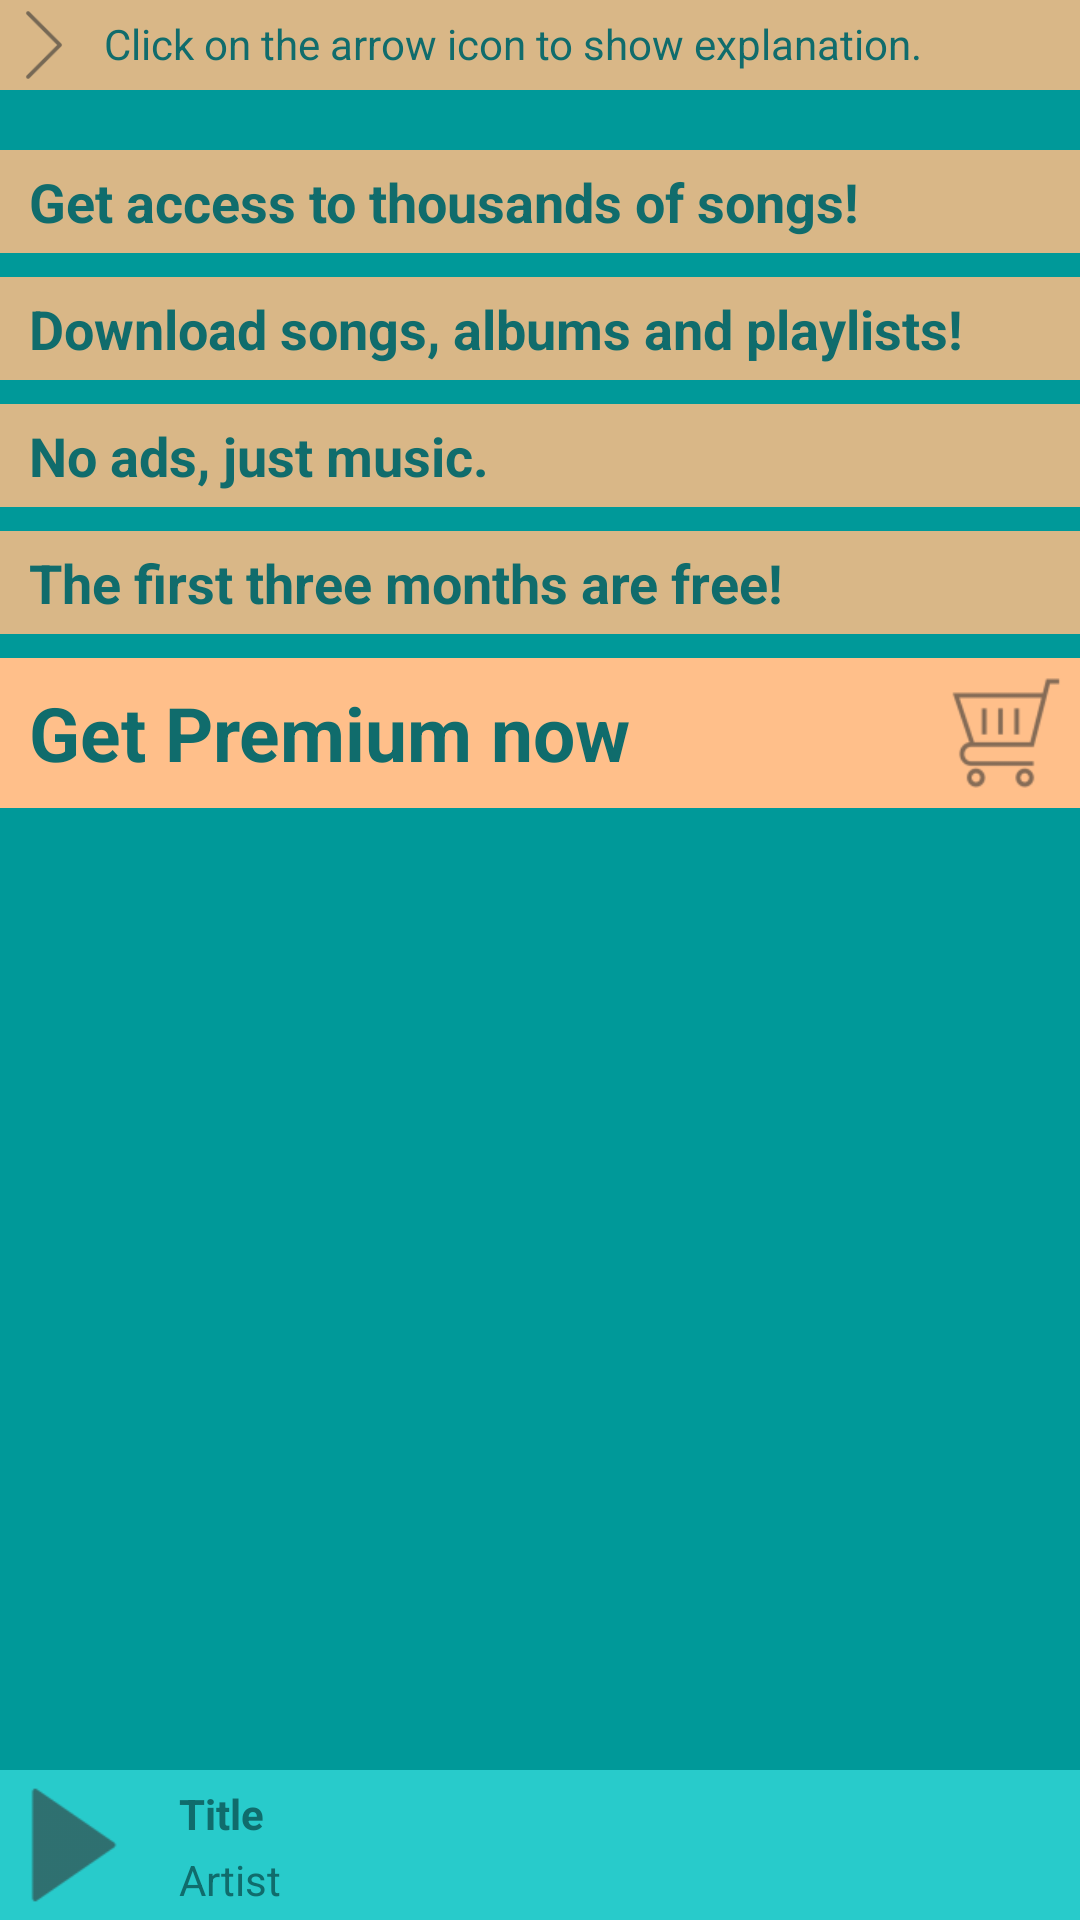

Icons on this 1080×1920 Android screen, each with the point to tap as (x=x, y=y):
arrow side: (x=44, y=45)
buy: (x=1006, y=733)
play: (x=74, y=1845)
